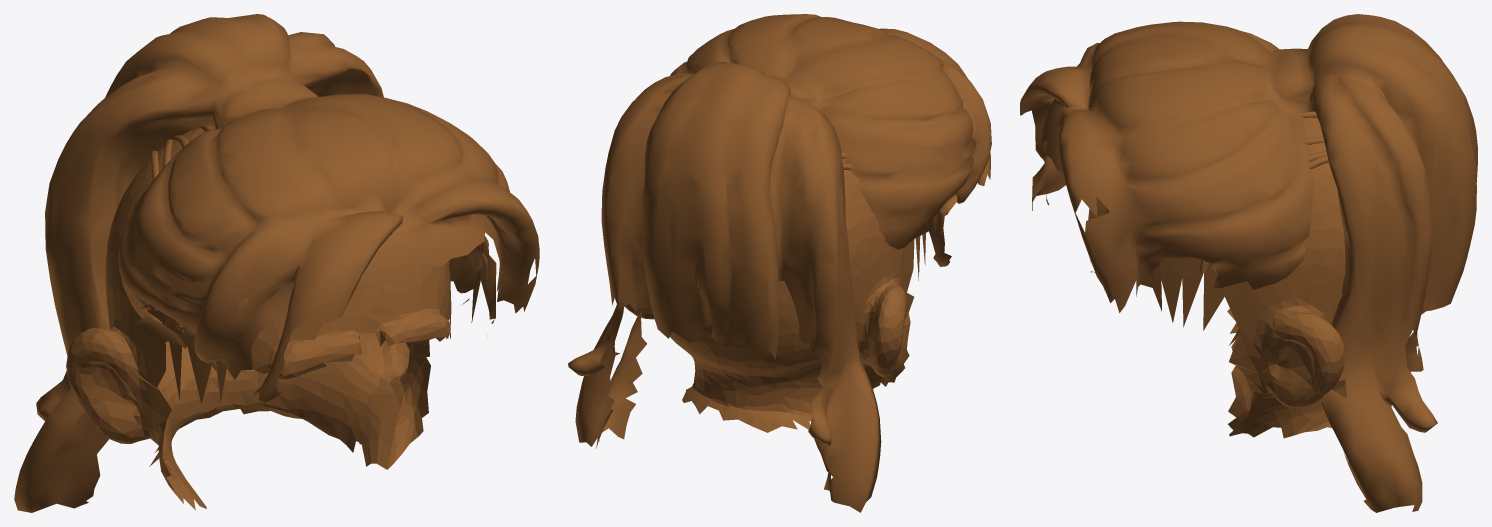
The model's file is ponytail.glb.
The picture shows the model from 3 angles, left to right: view 1: azimuth 30°, elevation 25°; view 2: azimuth 150°, elevation 25°; view 3: azimuth 270°, elevation 25°; orthographic projection. The views are drawn at different scales.
Parts seen in each view (by area): view 1: Hair, HairScalp, HairPulledRootStrands; view 2: Hair, HairScalp; view 3: Hair, HairScalp, HairPulledRootStrands.
Boxes of the visible parts, x1,y1,x2,y2 form: Hair: (14,14,539,512); HairScalp: (66,127,451,509); HairPulledRootStrands: (150,125,449,327); Hair: (568,14,991,512); HairScalp: (625,159,925,432); Hair: (1020,14,1477,512); HairScalp: (1152,117,1346,438); HairPulledRootStrands: (1199,111,1328,272).
Bounding box in the file's own units: 0.4724 × 0.5808 × 0.5745.
